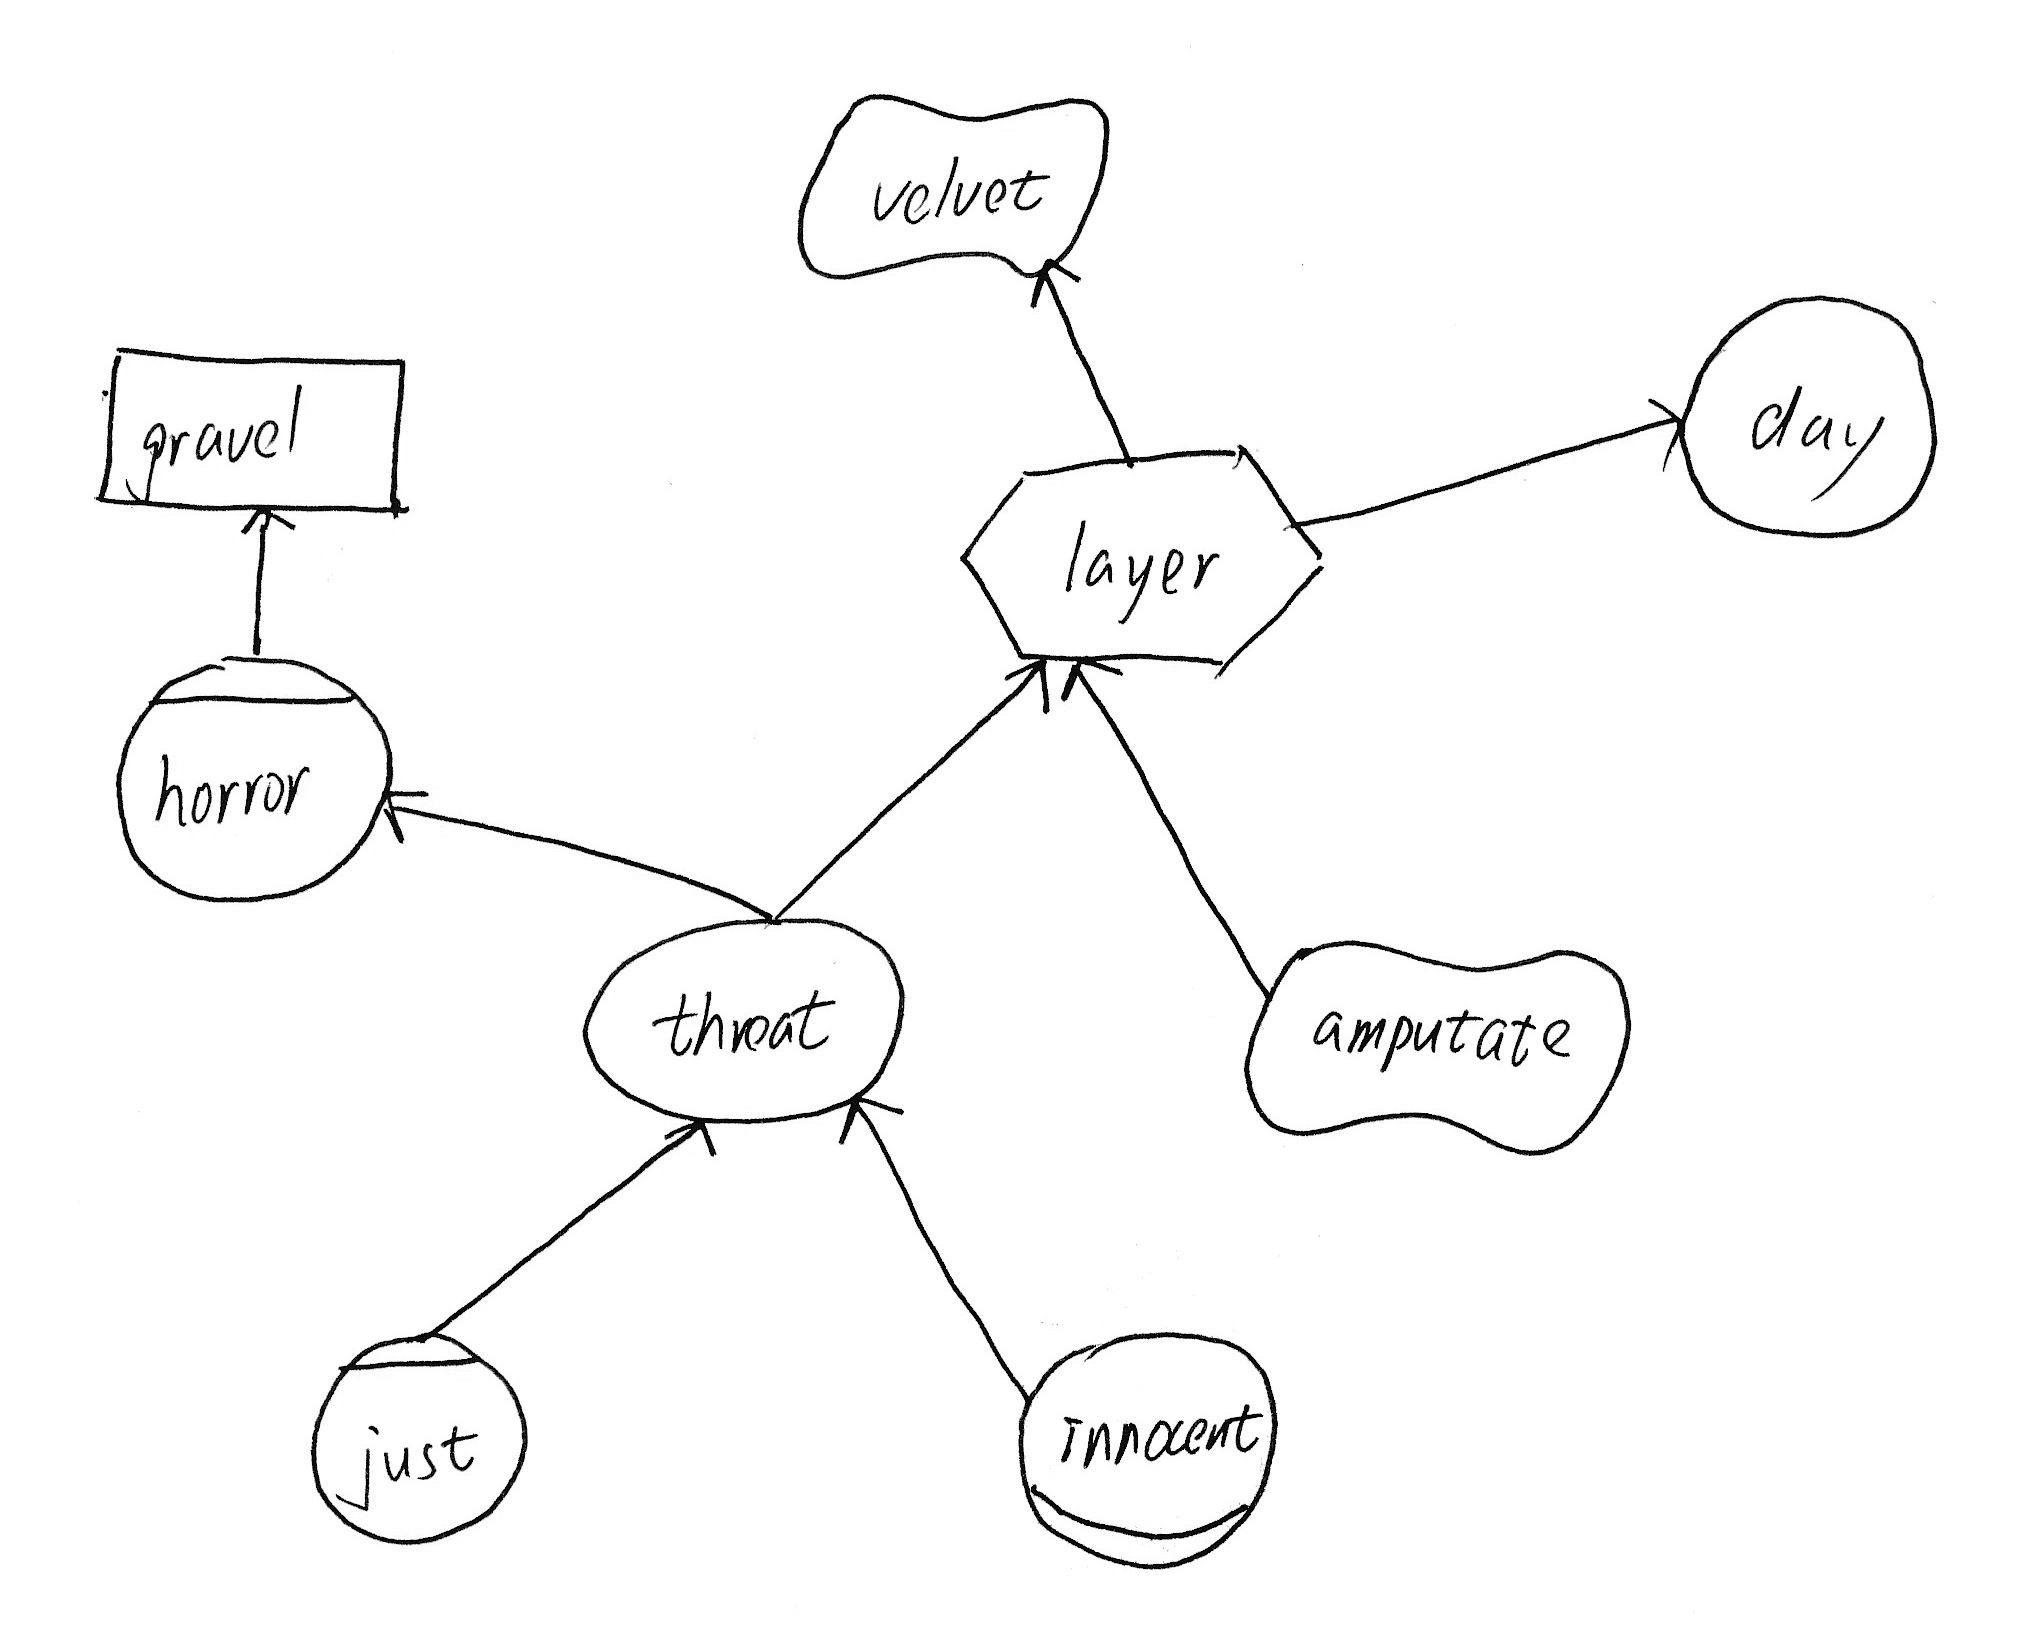actor: (1661, 281, 1955, 550)
agent: (94, 635, 411, 919), (292, 1316, 546, 1560)
arrow: (1631, 383, 1706, 488), (830, 1082, 917, 1153), (374, 772, 441, 860), (1054, 646, 1129, 717), (1014, 249, 1088, 317), (999, 646, 1064, 723), (229, 489, 302, 553), (650, 1106, 723, 1163)
goal: (560, 900, 922, 1146)
quality: (1216, 919, 1642, 1161), (774, 77, 1131, 301)
resource: (79, 326, 431, 531)
role: (1006, 1311, 1292, 1580)
task: (946, 433, 1342, 690)
